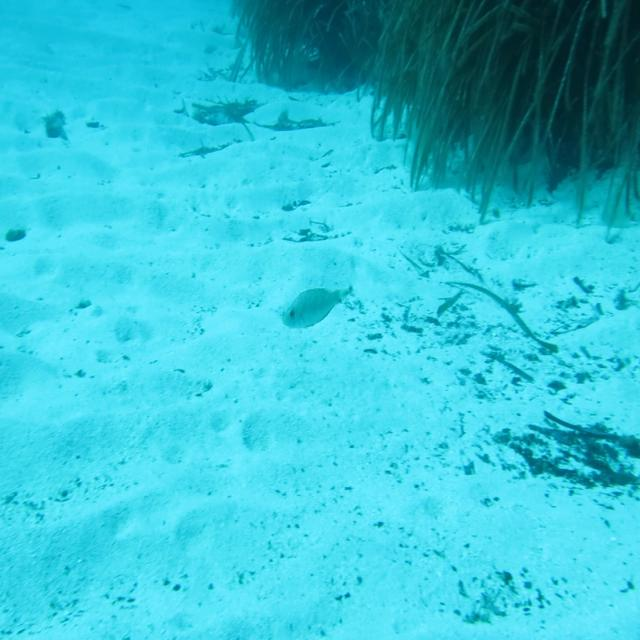BN: (277, 276, 354, 340)
vegetation: (236, 0, 640, 177), (450, 408, 639, 507)
